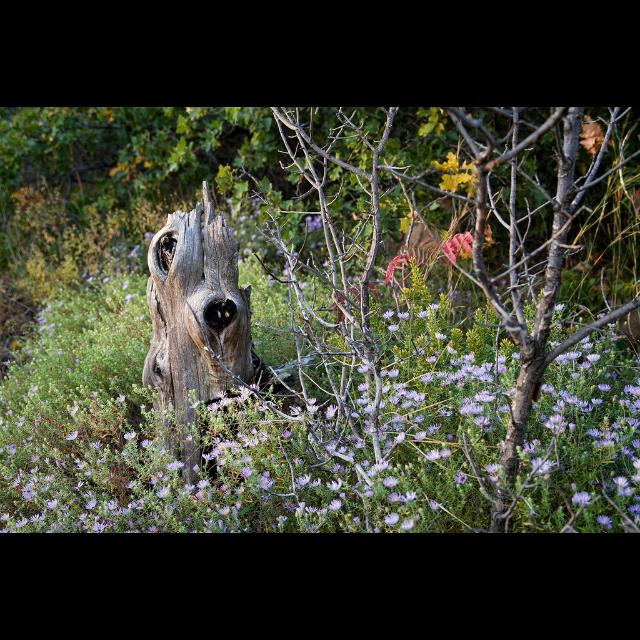Flower: (1, 292, 640, 534), (232, 196, 334, 310), (142, 232, 154, 244), (576, 494, 588, 506), (132, 245, 140, 261), (123, 280, 131, 294), (101, 277, 111, 287), (126, 296, 134, 306), (110, 245, 118, 253), (87, 278, 91, 288)
